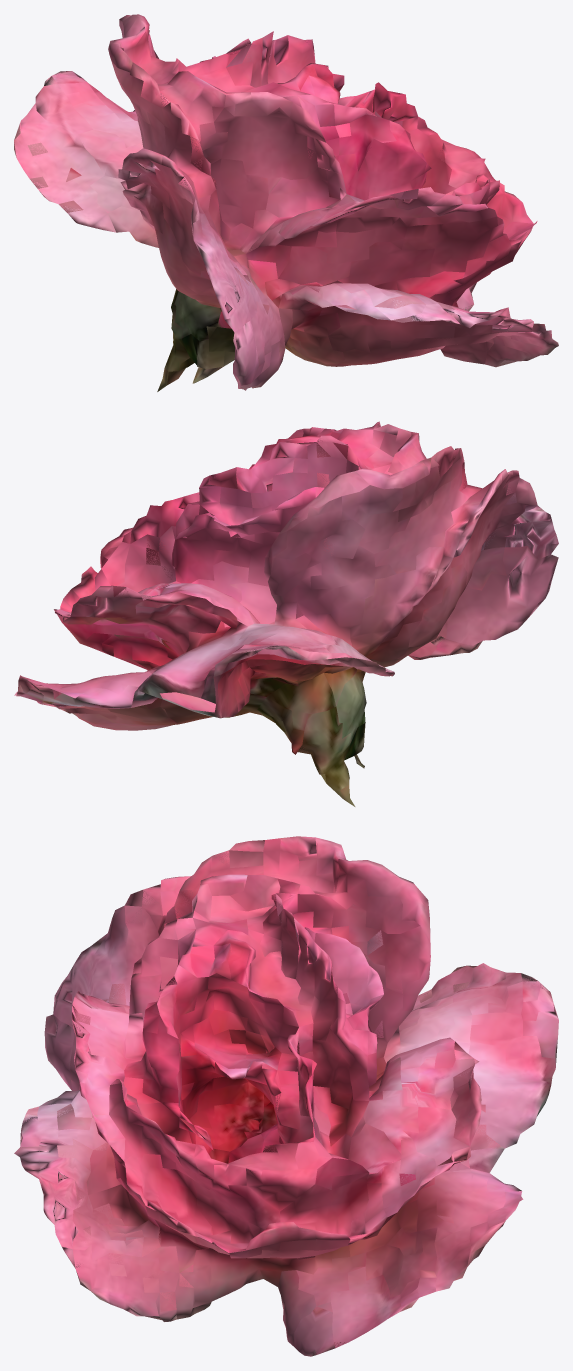
3 views of the same model, one above another, from view 1: azimuth 30°, elevation 25°; view 2: azimuth 150°, elevation 25°; view 3: azimuth 270°, elevation 25° (orthographic). The views are drawn at different scales.
Parts seen in each view (by area): view 1: 3a56a21a; view 2: 3a56a21a; view 3: 3a56a21a.
Boxes of the visible parts, bbox=[...] form: 3a56a21a: bbox=[14, 14, 558, 391]; 3a56a21a: bbox=[14, 421, 558, 806]; 3a56a21a: bbox=[14, 836, 558, 1356].
Bounding box in the file's own units: 0.0727 × 0.062 × 0.0841.
Materials: 1 (1 with a texture image).
